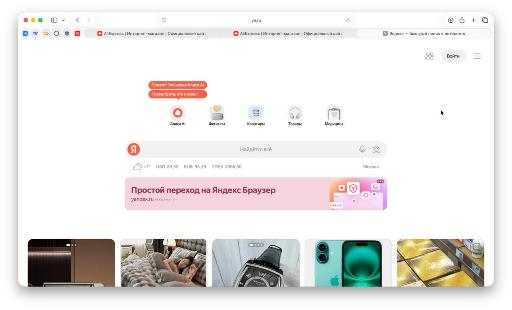yandex: (20, 41, 489, 289)
